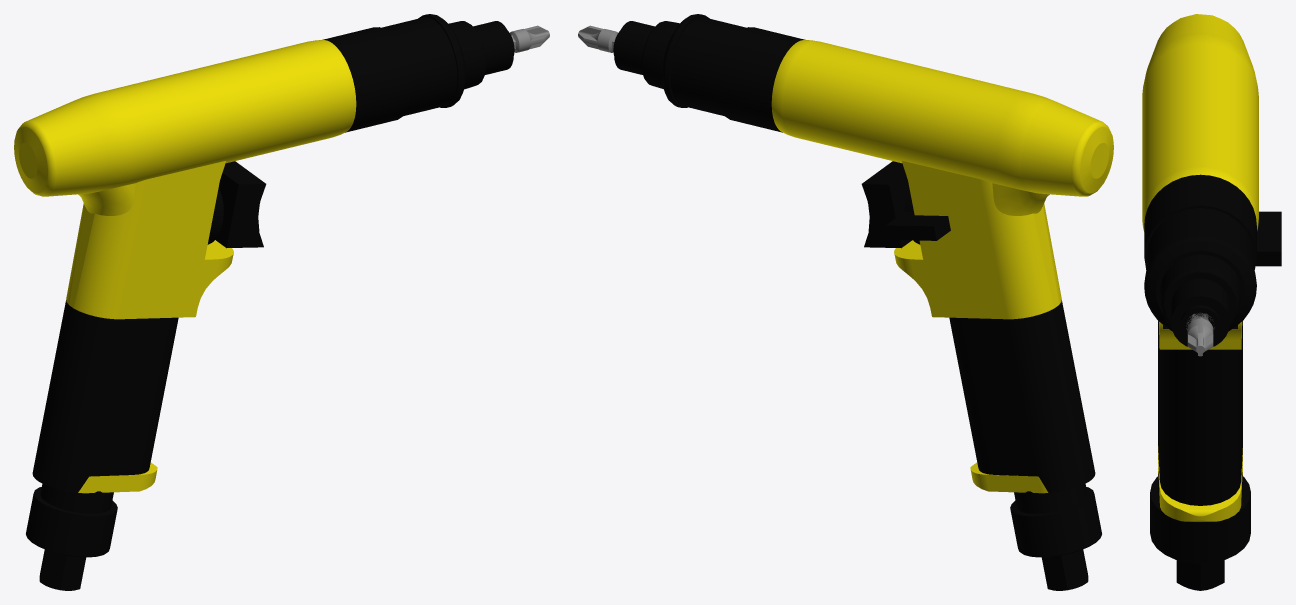
The model's file is screwdriver.fbx.
3 views of the same model, side by side, from view 1: azimuth 30°, elevation 25°; view 2: azimuth 150°, elevation 25°; view 3: azimuth 270°, elevation 25° (orthographic). The views are drawn at different scales.
Visible parts, largest first — view 1: screwdriver, trigger, head; view 2: screwdriver, trigger, head; view 3: screwdriver, head.
Part boxes in pixels (x1,y1,x2,y2): screwdriver: (14,14,514,590); trigger: (215,161,266,248); head: (510,25,549,52); screwdriver: (613,14,1113,590); trigger: (861,161,911,248); head: (578,25,617,52); screwdriver: (1142,14,1281,590); head: (1186,313,1214,356).
Bounding box in the file's own units: 19140 × 16856 × 3780.
